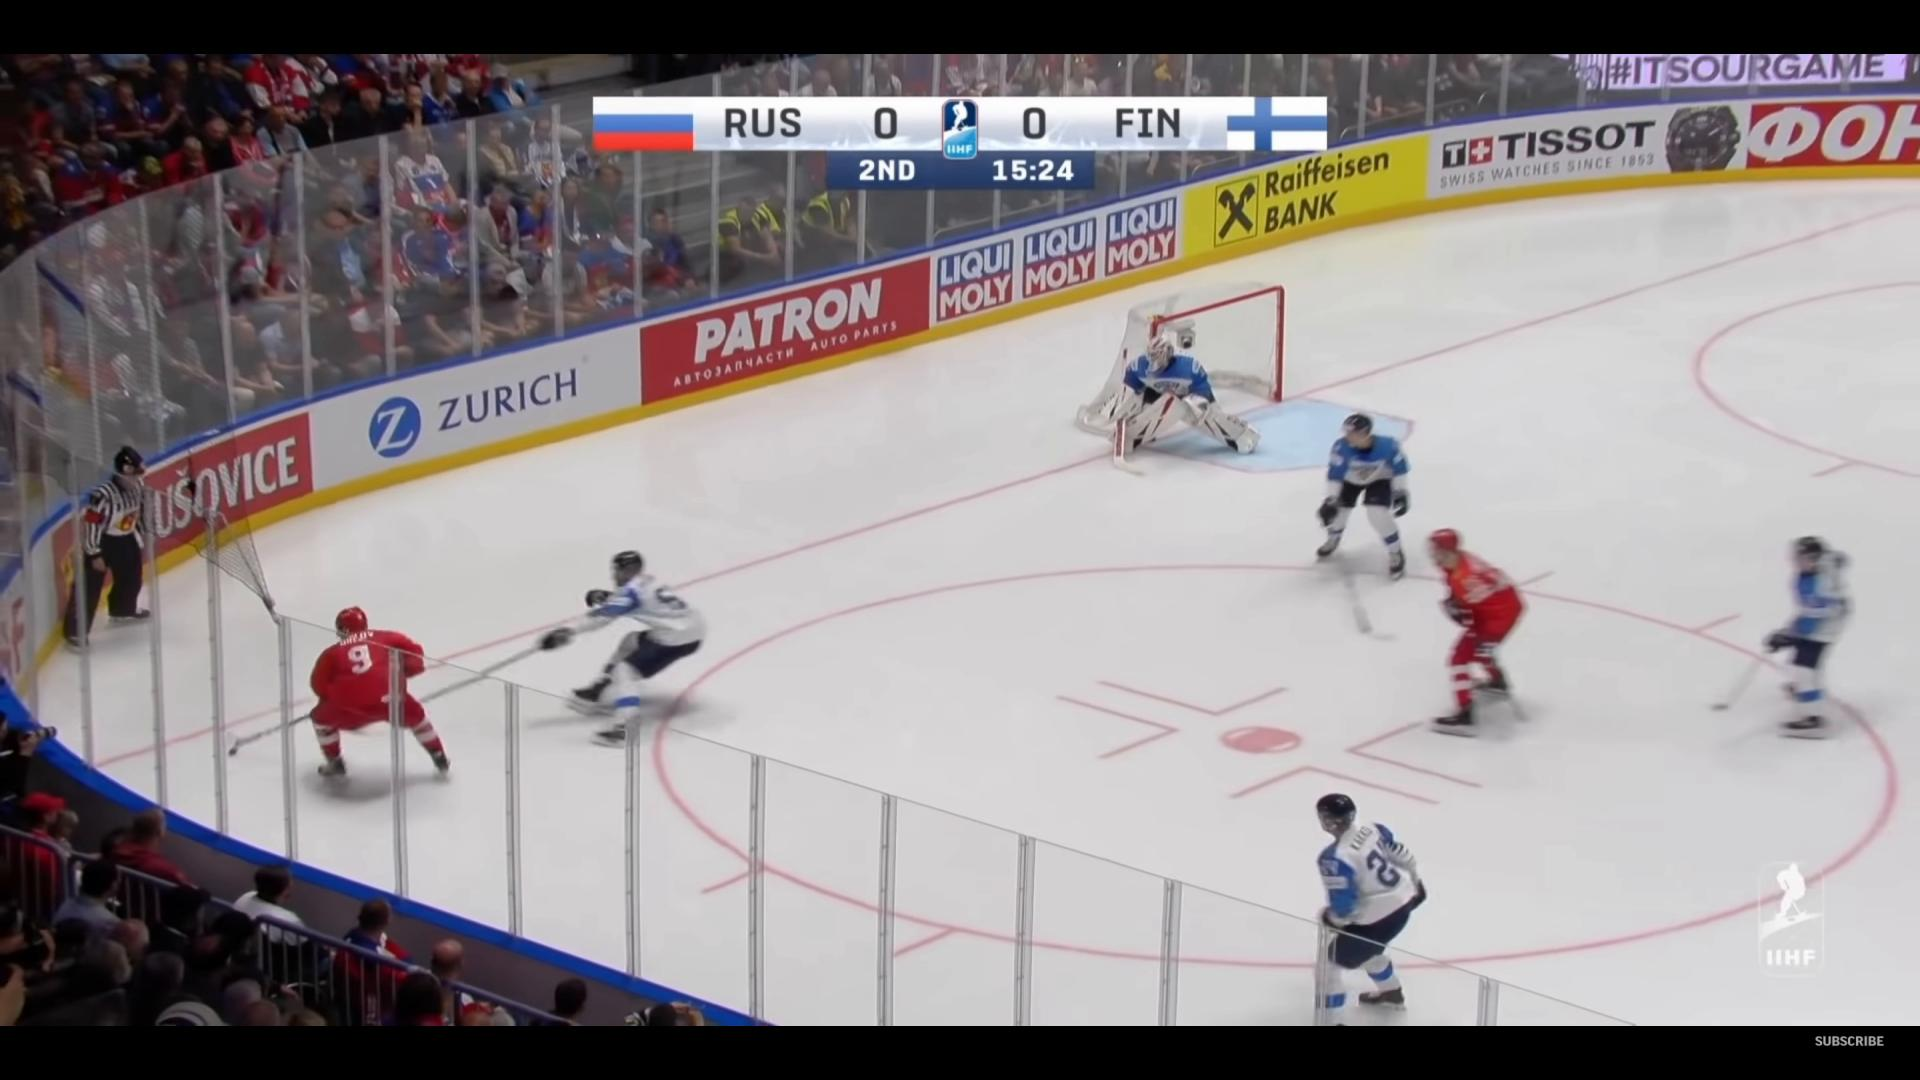puck: (227, 747, 238, 756)
